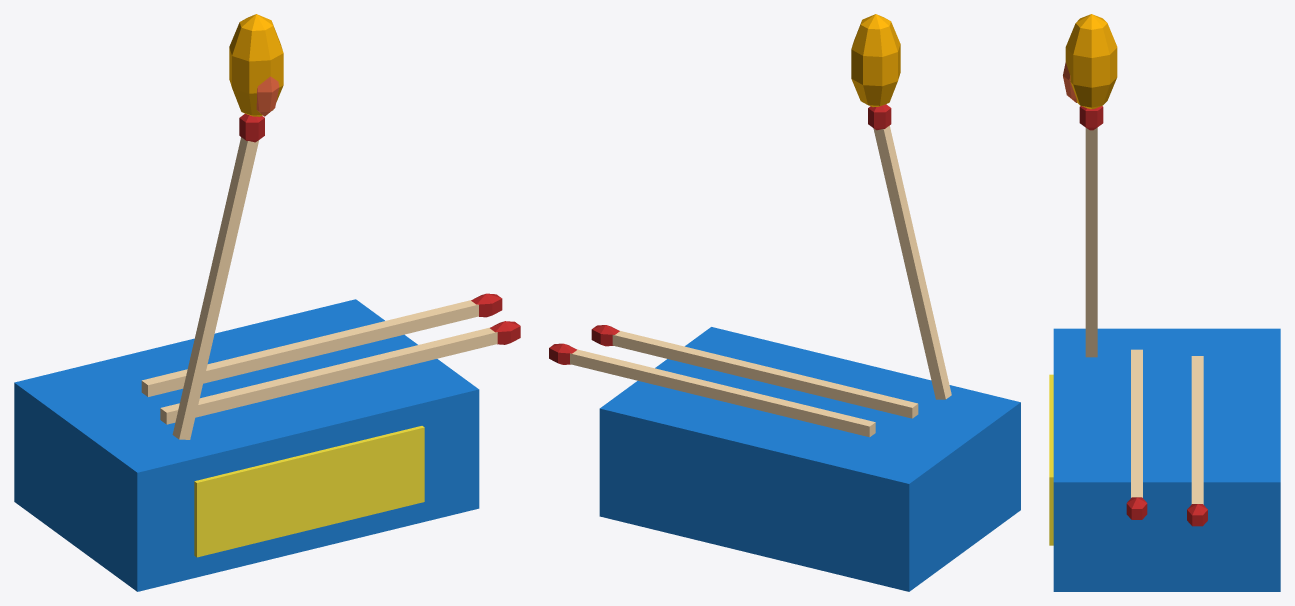
File: tandsticka.glb
3 views of the same model, side by side, from view 1: azimuth 30°, elevation 25°; view 2: azimuth 150°, elevation 25°; view 3: azimuth 270°, elevation 25° (orthographic). The views are drawn at different scales.
Parts seen in each view (by area): view 1: tandsticka; view 2: tandsticka; view 3: tandsticka.
Part boxes in pixels (left/top/right/bottom): tandsticka: left=14, top=14, right=520, bottom=591; tandsticka: left=549, top=14, right=1020, bottom=591; tandsticka: left=1049, top=14, right=1280, bottom=591.
Size of the model in its own units: 0.309 by 0.355 by 0.153.
